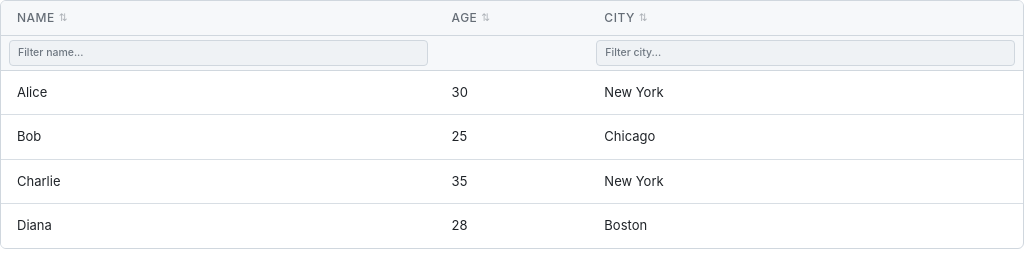
Test: DataTable › clearing filter restores all rows
Type "alice" into the field labelled "Filter name" at (218, 53), box [9, 40, 428, 66]
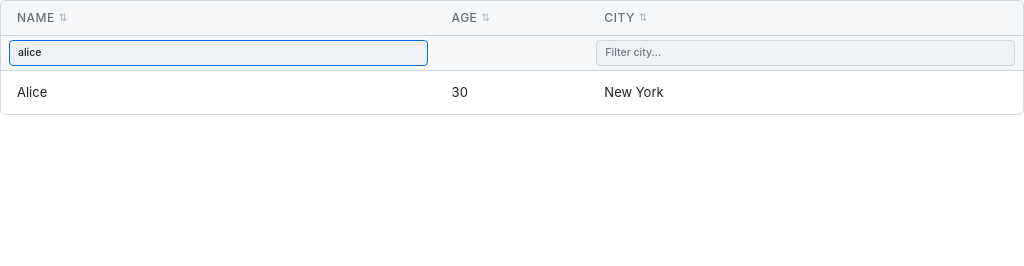
Check: the text "Bob" is gone
Clear the field named "Filter name" at (218, 53), box [9, 40, 428, 66]
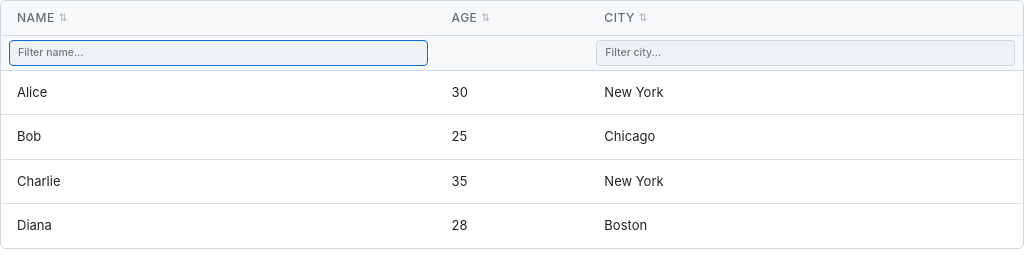
Check: the text "Bob" is shown, box [1, 115, 436, 159]
Check: the text "Charlie" is shown, box [1, 159, 436, 204]
Check: the text "Diana" is shown, box [1, 204, 436, 248]
